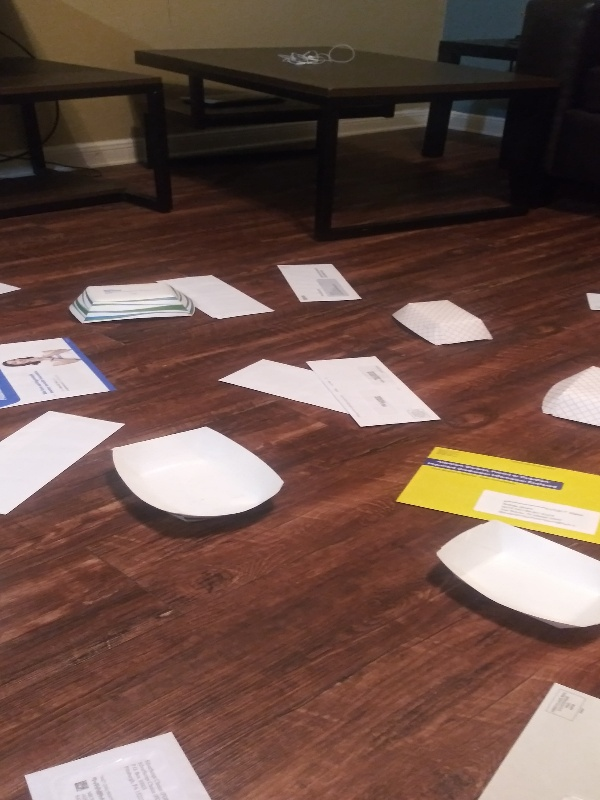plate: (105, 420, 291, 532), (431, 516, 600, 638), (63, 278, 199, 331), (386, 296, 502, 351), (532, 362, 600, 437)
